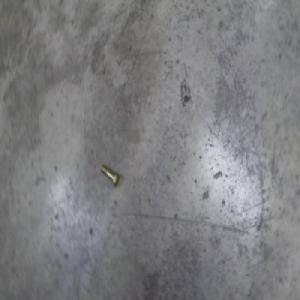Bolt: (100, 163, 120, 187)
